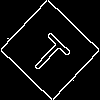T: (25, 25, 78, 79)
